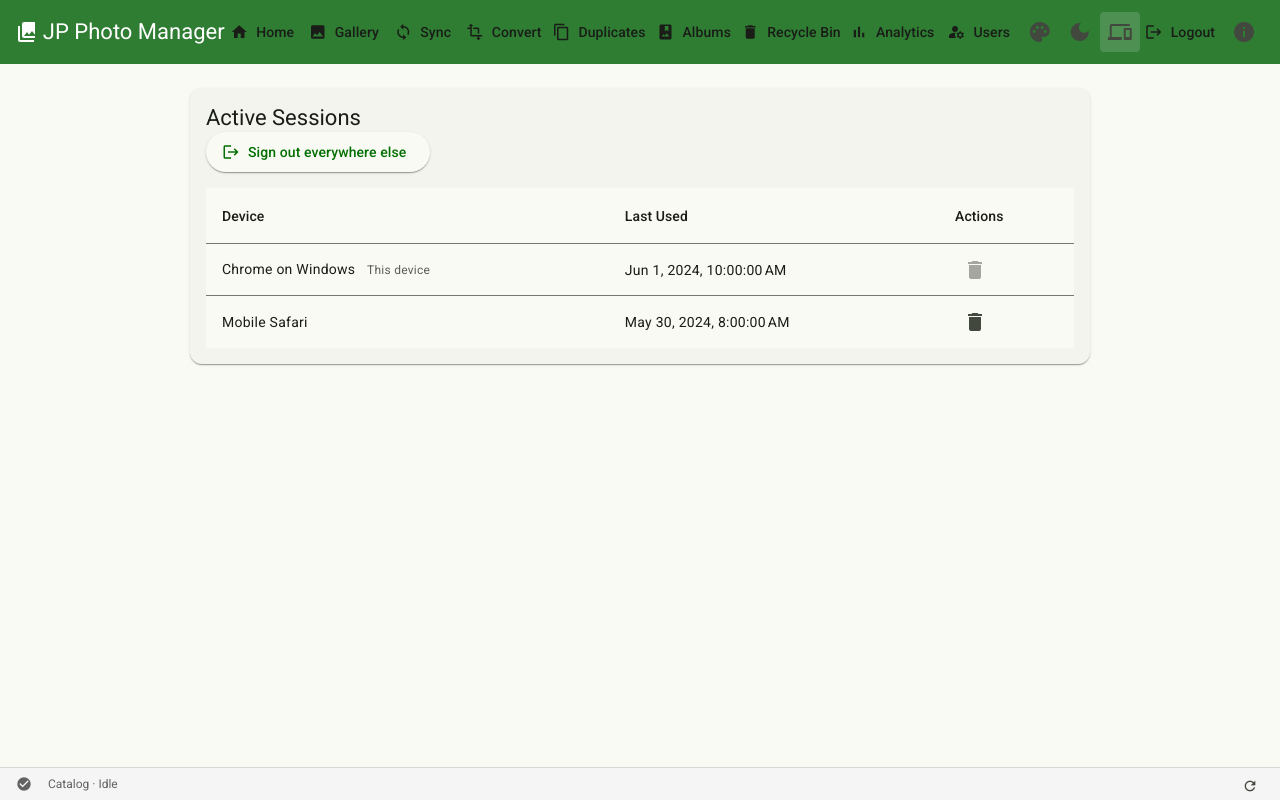
Test case: Profile sessions › profileSessionsPage_revokeConfirmed_sessionRowIsRemoved
Click the button titled "Revoke session" at coordinates (975, 322), box [955,302,995,342]
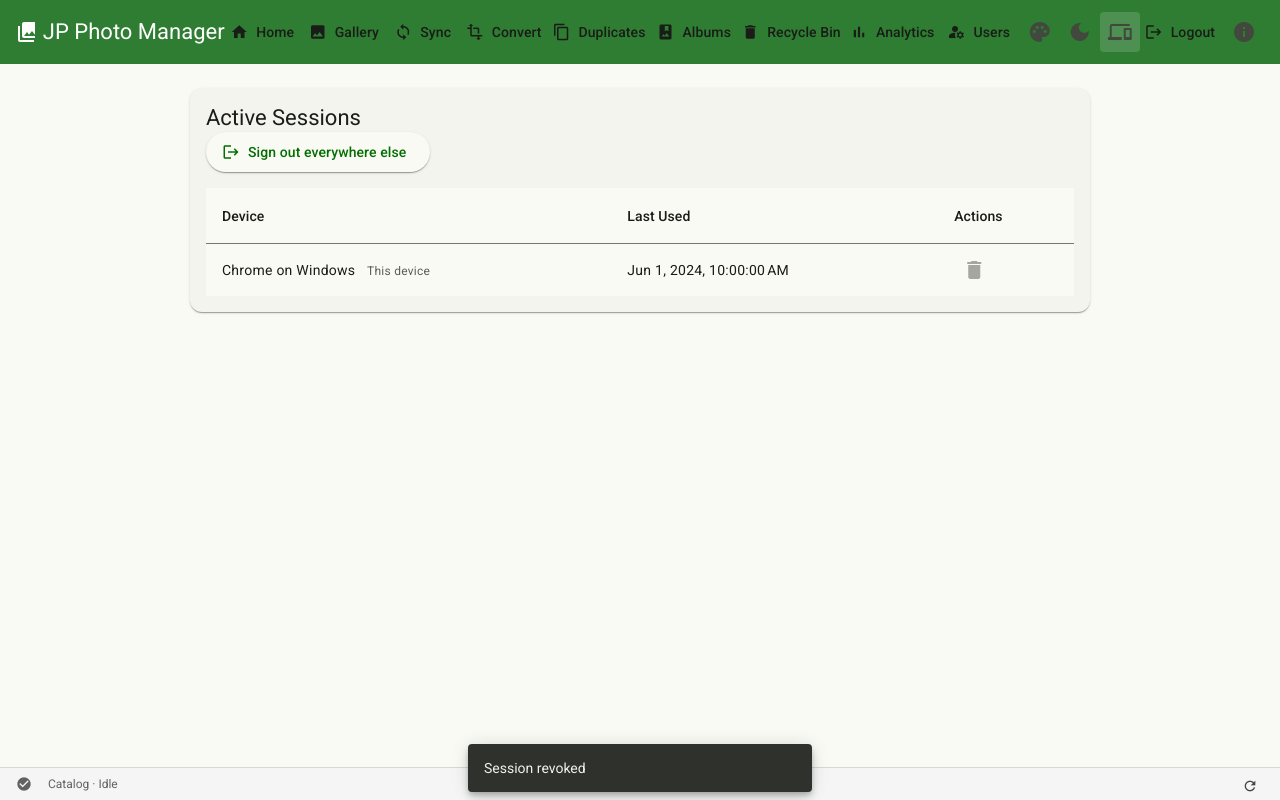
Expected: the text "Session revoked" is shown, [484,760,586,776]
